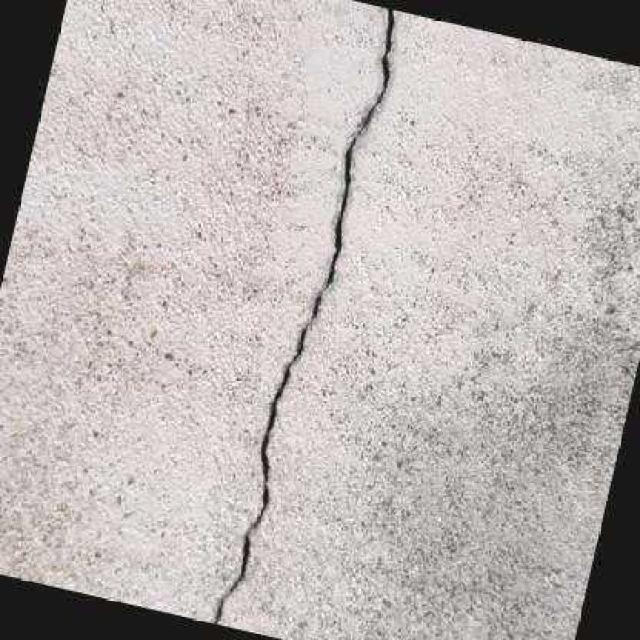D00: (211, 6, 393, 624)
